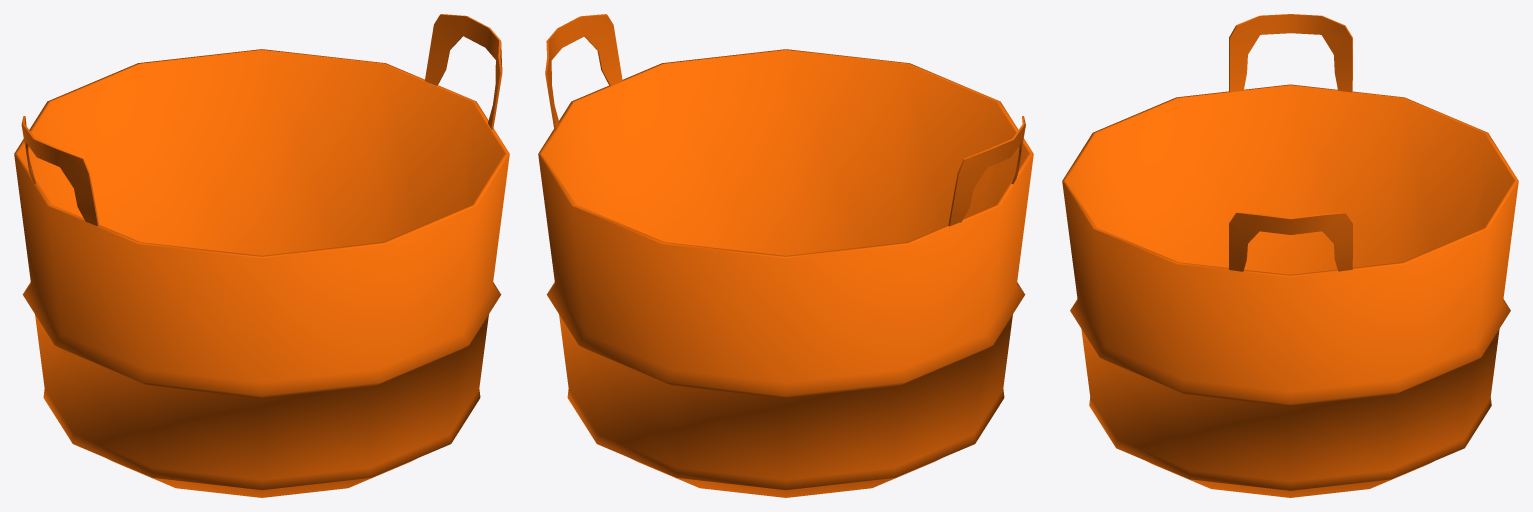
The model's file is Laundry_Tub_D.FBX.
The picture shows the model from 3 angles, left to right: view 1: azimuth 30°, elevation 25°; view 2: azimuth 150°, elevation 25°; view 3: azimuth 270°, elevation 25°; orthographic projection. The views are drawn at different scales.
Parts seen in each view (by area): view 1: Laundry_Tub; view 2: Laundry_Tub; view 3: Laundry_Tub.
Part boxes in pixels (x1,y1,x2,y2): Laundry_Tub: (14,14,509,497); Laundry_Tub: (538,14,1033,497); Laundry_Tub: (1062,14,1518,497).
Size of the model in its own units: 102 by 73.29 by 96.11.
